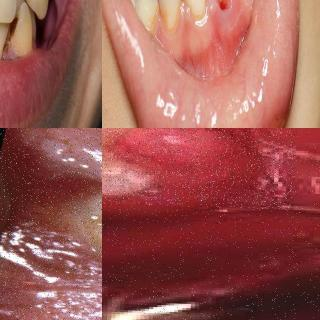Gum Swelling: (6, 128, 102, 320), (105, 128, 261, 221), (208, 0, 247, 35)
calculus: (58, 183, 102, 289)
maligned: (7, 2, 38, 59), (5, 0, 33, 18), (206, 0, 235, 12)
stains: (138, 5, 168, 41), (157, 0, 183, 34), (185, 4, 207, 30)
